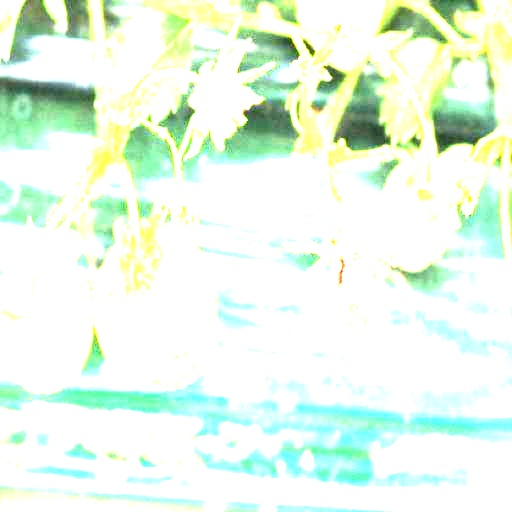Gray Mold: (287, 223, 395, 342)
